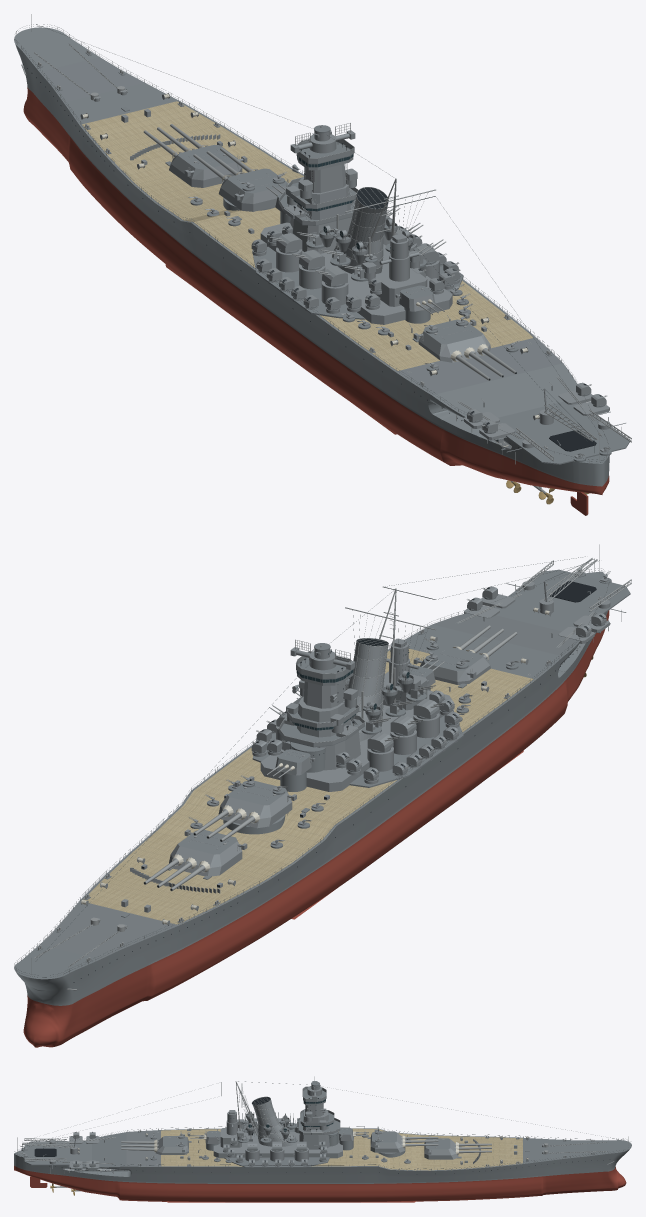
Rendered from yamato.glb.
3 views of the same model, one above another, from view 1: azimuth 30°, elevation 25°; view 2: azimuth 150°, elevation 25°; view 3: azimuth 270°, elevation 25° (orthographic). The views are drawn at different scales.
Parts seen in each view (by area): view 1: decks-and-fittings.mesh, Blueprint lofted hull, bridge-and-directors.mesh, aircraft-deck-boats-and-handling-gear.mesh, main-3.yaw.mesh, main-2.yaw.mesh, main-1.yaw.mesh, funnel-jacket.mesh, masts-radar-and-rigging.mesh, aa-gallery-1.mesh, funnel.mesh, bridge-trunk.mesh (+3 smaller); view 2: Blueprint lofted hull, decks-and-fittings.mesh, bridge-and-directors.mesh, aircraft-deck-boats-and-handling-gear.mesh, main-1.yaw.mesh, main-2.yaw.mesh, funnel-jacket.mesh, main-3.yaw.mesh, masts-radar-and-rigging.mesh, aa-gallery-1.mesh, bridge-trunk.mesh, operations-tower.mesh (+3 smaller); view 3: Blueprint lofted hull, decks-and-fittings.mesh, bridge-and-directors.mesh, aircraft-deck-boats-and-handling-gear.mesh, funnel-jacket.mesh, main-2.yaw.mesh, main-1.yaw.mesh, aa-gallery--1.mesh, main-3.yaw.mesh, masts-radar-and-rigging.mesh, funnel.mesh, shafts-screws-and-tandem-rudders.mesh (+3 smaller).
Part boxes in pixels (x1,y1,x2,y2): decks-and-fittings.mesh: (14,24,609,463); Blueprint lofted hull: (15,44,609,494); bridge-and-directors.mesh: (260,125,452,324); aircraft-deck-boats-and-handling-gear.mesh: (407,341,631,464); main-3.yaw.mesh: (413,319,490,362); main-2.yaw.mesh: (218,168,289,211); main-1.yaw.mesh: (169,144,247,187); funnel-jacket.mesh: (332,187,387,273); masts-radar-and-rigging.mesh: (31,14,601,461); aa-gallery-1.mesh: (253,246,365,319); funnel.mesh: (334,187,395,284); bridge-trunk.mesh: (297,176,350,220); Blueprint lofted hull: (16,610,609,1047); decks-and-fittings.mesh: (14,568,608,990); bridge-and-directors.mesh: (260,638,452,791); aircraft-deck-boats-and-handling-gear.mesh: (409,558,631,675); main-1.yaw.mesh: (169,829,247,876); main-2.yaw.mesh: (218,780,296,828); funnel-jacket.mesh: (348,638,388,741); main-3.yaw.mesh: (413,646,490,684); masts-radar-and-rigging.mesh: (31,544,599,974); aa-gallery-1.mesh: (349,715,463,787); bridge-trunk.mesh: (297,697,350,737); operations-tower.mesh: (303,681,345,708); Blueprint lofted hull: (14,1148,630,1202); decks-and-fittings.mesh: (14,1126,631,1170); bridge-and-directors.mesh: (213,1081,342,1161); aircraft-deck-boats-and-handling-gear.mesh: (22,1132,158,1173); funnel-jacket.mesh: (253,1097,296,1146); main-2.yaw.mesh: (370,1129,404,1153); main-1.yaw.mesh: (424,1136,458,1159); aa-gallery--1.mesh: (224,1157,329,1167); main-3.yaw.mesh: (156,1134,188,1154); masts-radar-and-rigging.mesh: (17,1076,628,1153); funnel.mesh: (248,1096,291,1142); shafts-screws-and-tandem-rudders.mesh: (50,1185,416,1202).
Size of the model in its own units: 41.12 by 50.05 by 263.
Materials: 11 (1 with a texture image).
